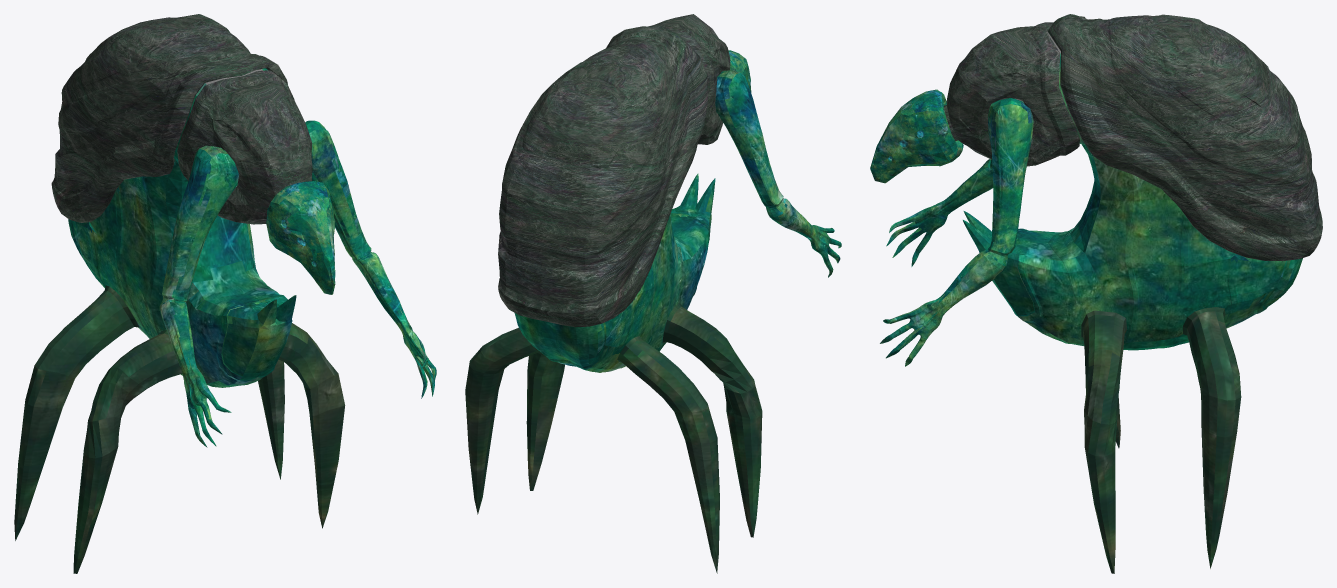
Rendered from Andar.0013.obj.
The picture shows the model from 3 angles, left to right: view 1: azimuth 30°, elevation 25°; view 2: azimuth 150°, elevation 25°; view 3: azimuth 270°, elevation 25°; orthographic projection. The views are drawn at different scales.
Bounding box in the file's own units: 2.16 × 3.93 × 3.24.
Materials: 5 (4 with a texture image).
